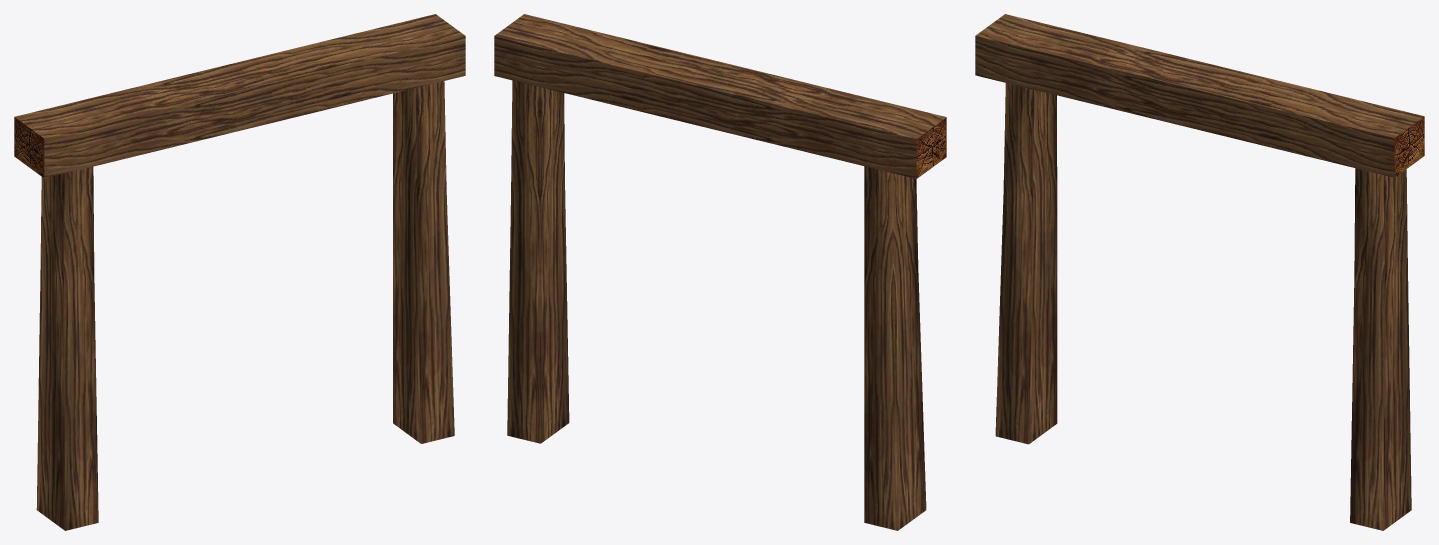
The model's file is LAKETOWN_WAREHOUSE1_PS_WH1_DOORFRAME__GX.fbx.
3 renders of one model, left to right at view 1: azimuth 30°, elevation 25°; view 2: azimuth 150°, elevation 25°; view 3: azimuth 330°, elevation 25°, orthographic.
Parts seen in each view (by area): view 1: LAKETOWN_WAREHOUSE1_PS_WH1_DOORFRAME__GX; view 2: LAKETOWN_WAREHOUSE1_PS_WH1_DOORFRAME__GX; view 3: LAKETOWN_WAREHOUSE1_PS_WH1_DOORFRAME__GX.
Part boxes in pixels (x1=…): LAKETOWN_WAREHOUSE1_PS_WH1_DOORFRAME__GX: x1=14, y1=14, x2=465, y2=530; LAKETOWN_WAREHOUSE1_PS_WH1_DOORFRAME__GX: x1=494, y1=14, x2=946, y2=530; LAKETOWN_WAREHOUSE1_PS_WH1_DOORFRAME__GX: x1=975, y1=14, x2=1424, y2=530.
Bounding box in the file's own units: 32757 × 29503 × 4078.
3 materials, 3 textured.
